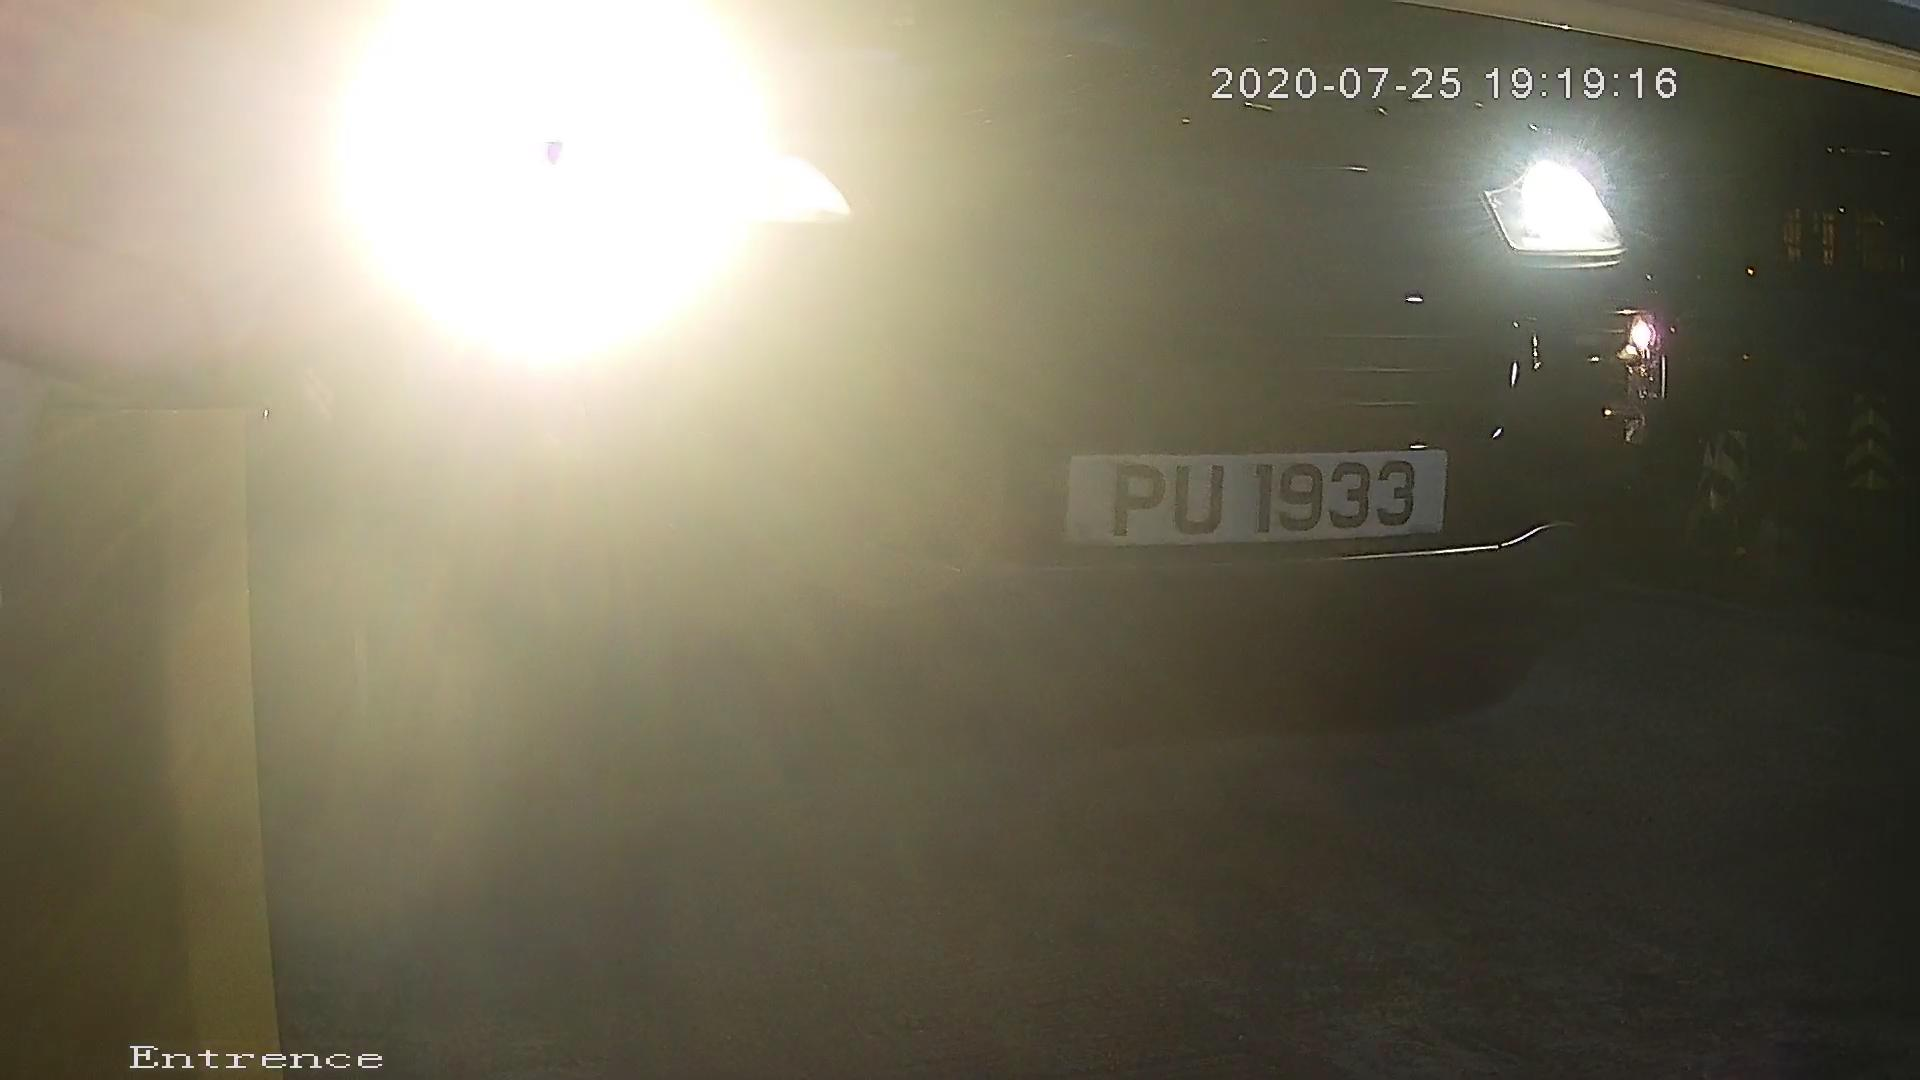Car: (43, 1, 1766, 854)
License Plate: (1039, 439, 1472, 573)
